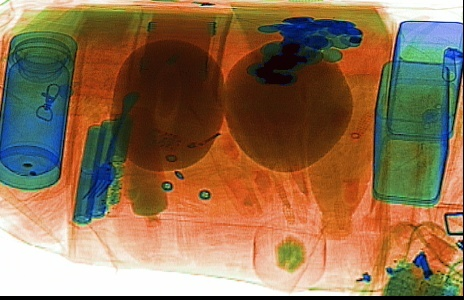powerbank: (70, 111, 132, 226)
